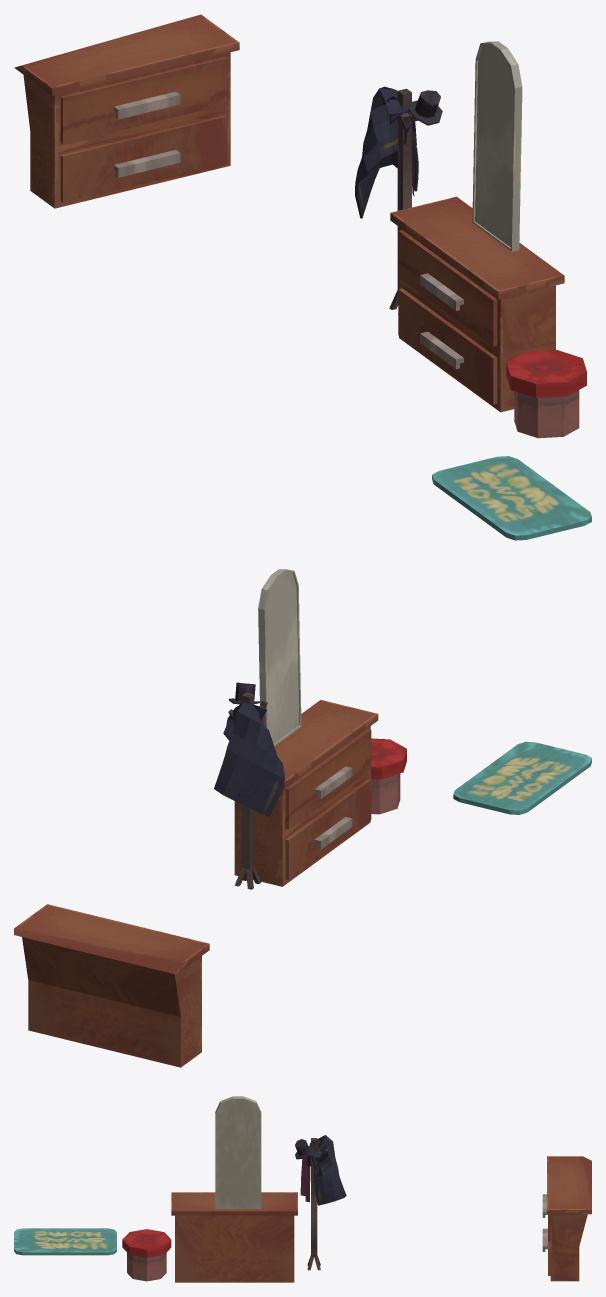
File: CORIDOR.fbx
The picture shows the model from 3 angles, top to bottom: view 1: azimuth 30°, elevation 25°; view 2: azimuth 150°, elevation 25°; view 3: azimuth 270°, elevation 25°; orthographic projection. The views are drawn at different scales.
Parts seen in each view (by area): view 1: ШКАФ1, ШКАФ2, ЗЕРКАЛО, КОВЕР, ПУФ, ПЛАЩ, Я ЩАС ПОВЕШУСЬ, ШЛЯПА; view 2: ШКАФ1, ШКАФ2, ЗЕРКАЛО, КОВЕР, ПЛАЩ, ПУФ, Я ЩАС ПОВЕШУСЬ; view 3: ШКАФ2, ШКАФ1, ЗЕРКАЛО, КОВЕР, ПУФ, ПЛАЩ, Я ЩАС ПОВЕШУСЬ, ШАРФ, ШЛЯПА.
Part boxes in pixels (box(x1,y1,x2,y2)): ШКАФ1: box(14, 14, 239, 208); ШКАФ2: box(390, 196, 564, 412); ЗЕРКАЛО: box(472, 41, 522, 251); КОВЕР: box(432, 456, 591, 540); ПУФ: box(506, 350, 586, 438); ПЛАЩ: box(355, 86, 418, 218); Я ЩАС ПОВЕШУСЬ: box(389, 88, 417, 314); ШЛЯПА: box(408, 90, 442, 125); ШКАФ1: box(14, 904, 209, 1067); ШКАФ2: box(234, 700, 378, 886); ЗЕРКАЛО: box(258, 569, 301, 746); КОВЕР: box(453, 741, 591, 814); ПЛАЩ: box(214, 702, 285, 816); ПУФ: box(370, 738, 406, 814); Я ЩАС ПОВЕШУСЬ: box(228, 692, 267, 889); ШКАФ2: box(171, 1192, 297, 1282); ШКАФ1: box(542, 1156, 591, 1281); ЗЕРКАЛО: box(215, 1096, 261, 1208); КОВЕР: box(14, 1228, 116, 1255); ПУФ: box(122, 1229, 171, 1281); ПЛАЩ: box(306, 1135, 346, 1205); Я ЩАС ПОВЕШУСЬ: box(307, 1138, 327, 1270); ШАРФ: box(300, 1157, 310, 1202); ШЛЯПА: box(295, 1139, 314, 1159).
Size of the model in its own units: 109 by 171 by 485.
